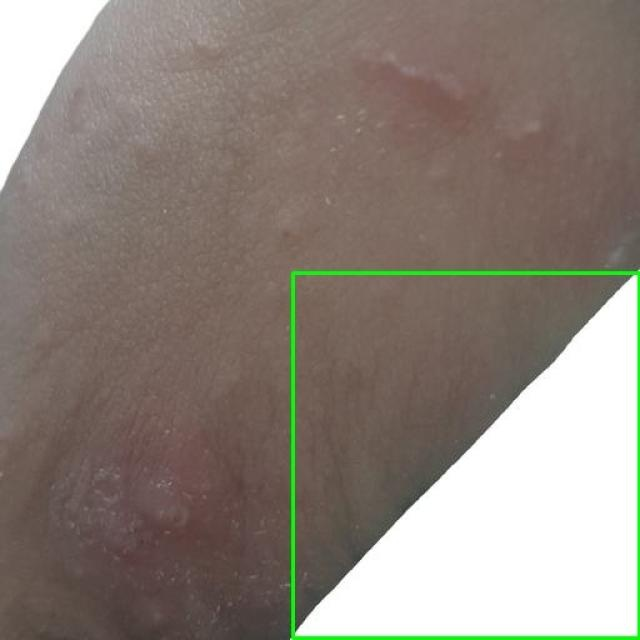Scabies: (292, 272, 639, 639)
